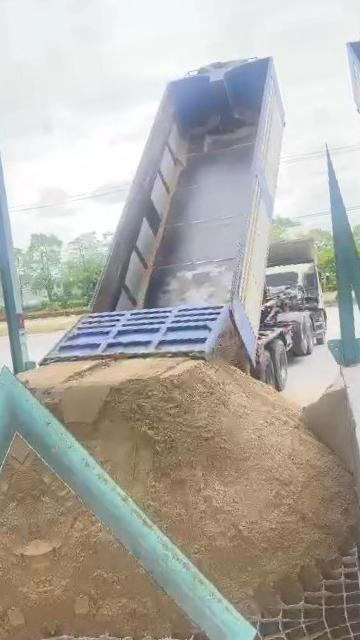sand: (25, 358, 356, 614), (20, 441, 189, 636), (302, 377, 358, 474)
